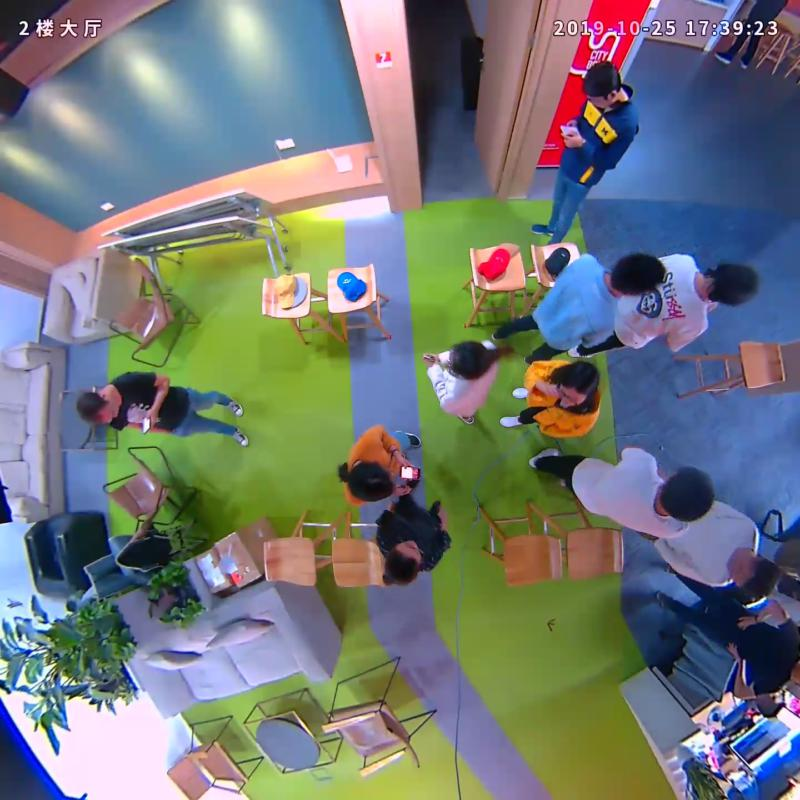head: (659, 464, 713, 524), (608, 253, 666, 299), (727, 552, 781, 599), (706, 262, 759, 307), (555, 360, 600, 405), (346, 460, 393, 503), (382, 539, 423, 587), (582, 59, 620, 108), (447, 340, 490, 379), (76, 392, 121, 422)
